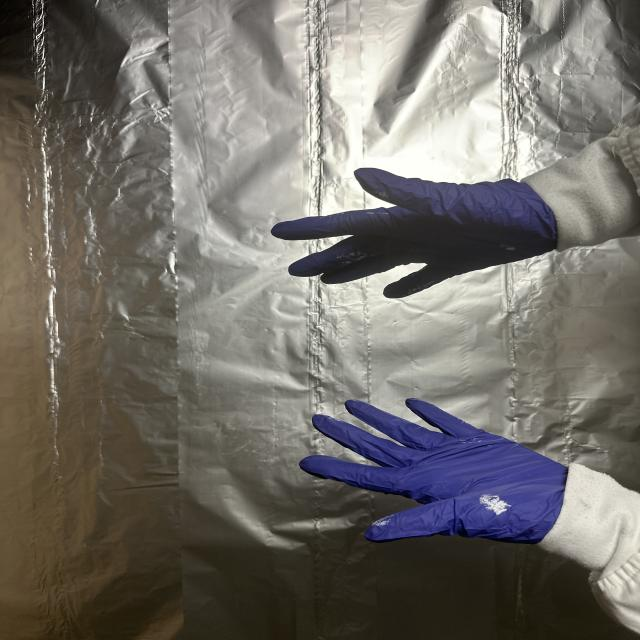gloves_contaminated: (300, 399, 568, 544), (272, 168, 557, 298)
